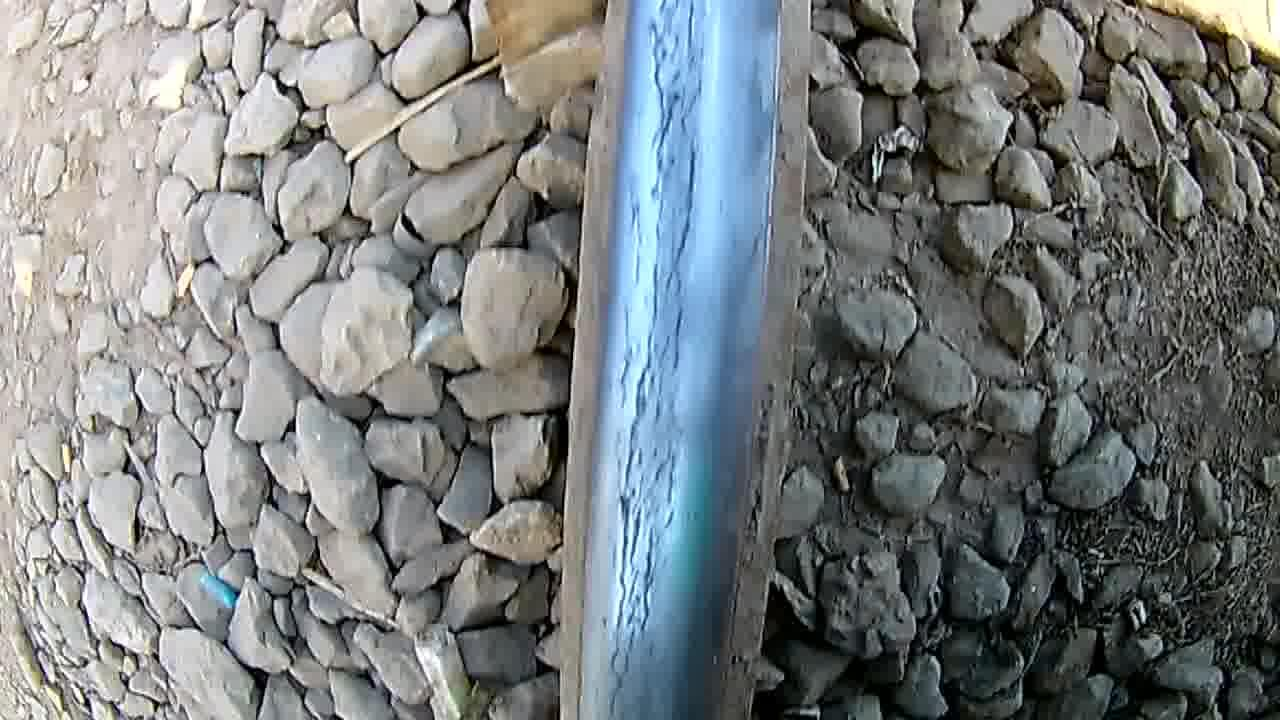normal_track: (594, 2, 722, 720)
